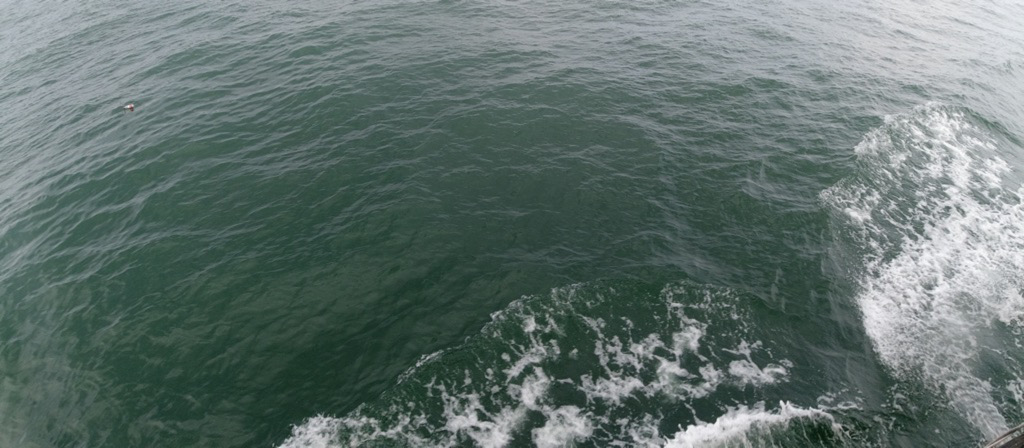plastic: (118, 101, 139, 113)
